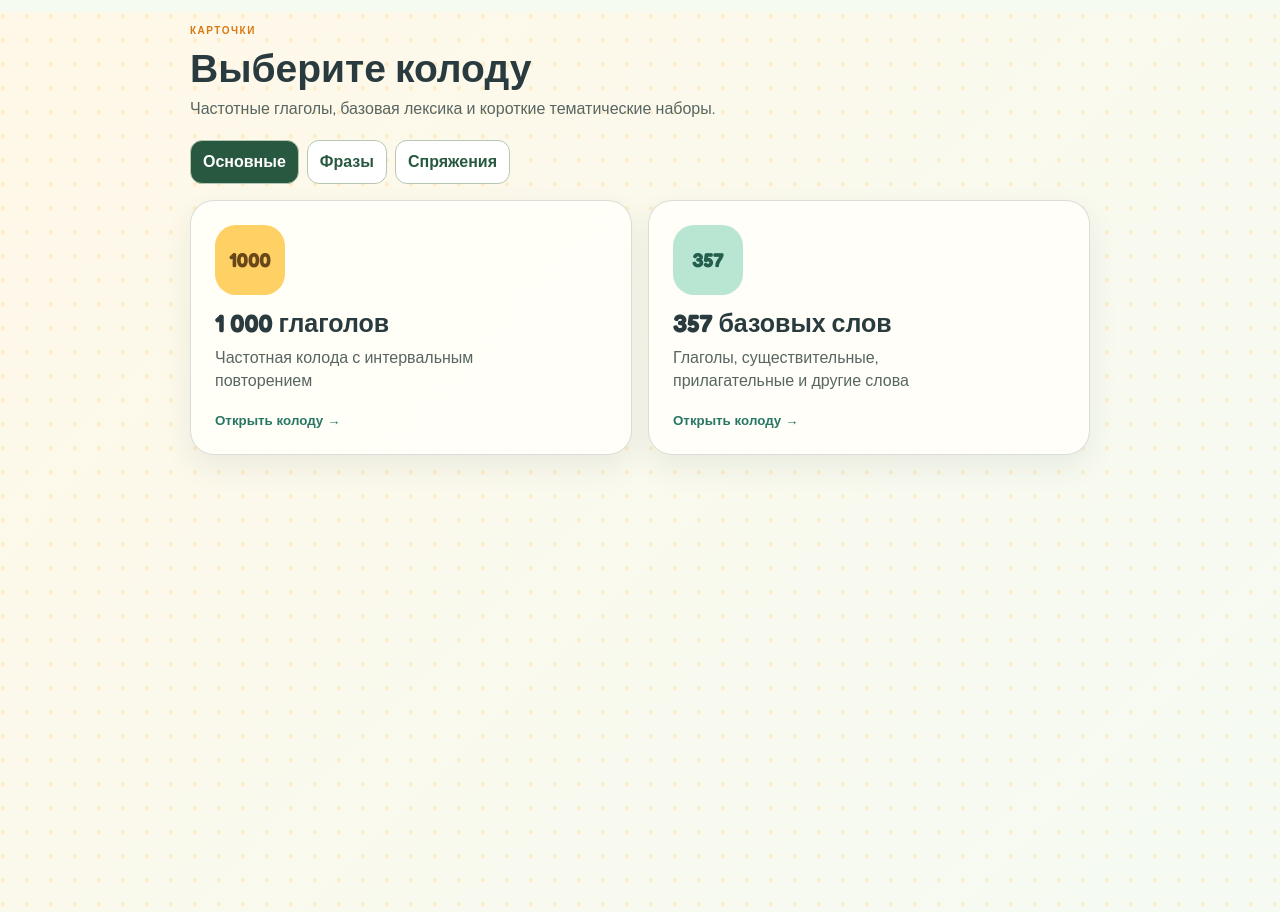
Scenario: Cards server cache and local session › deduplicates readers and keeps the active face until confirmation, then uses refreshed progress
The width and height of the screenshot is (1280, 912).
Click the button with aria-label "Открыть колоду «1 000 глаголов»": (250, 260) [190,200,632,455]
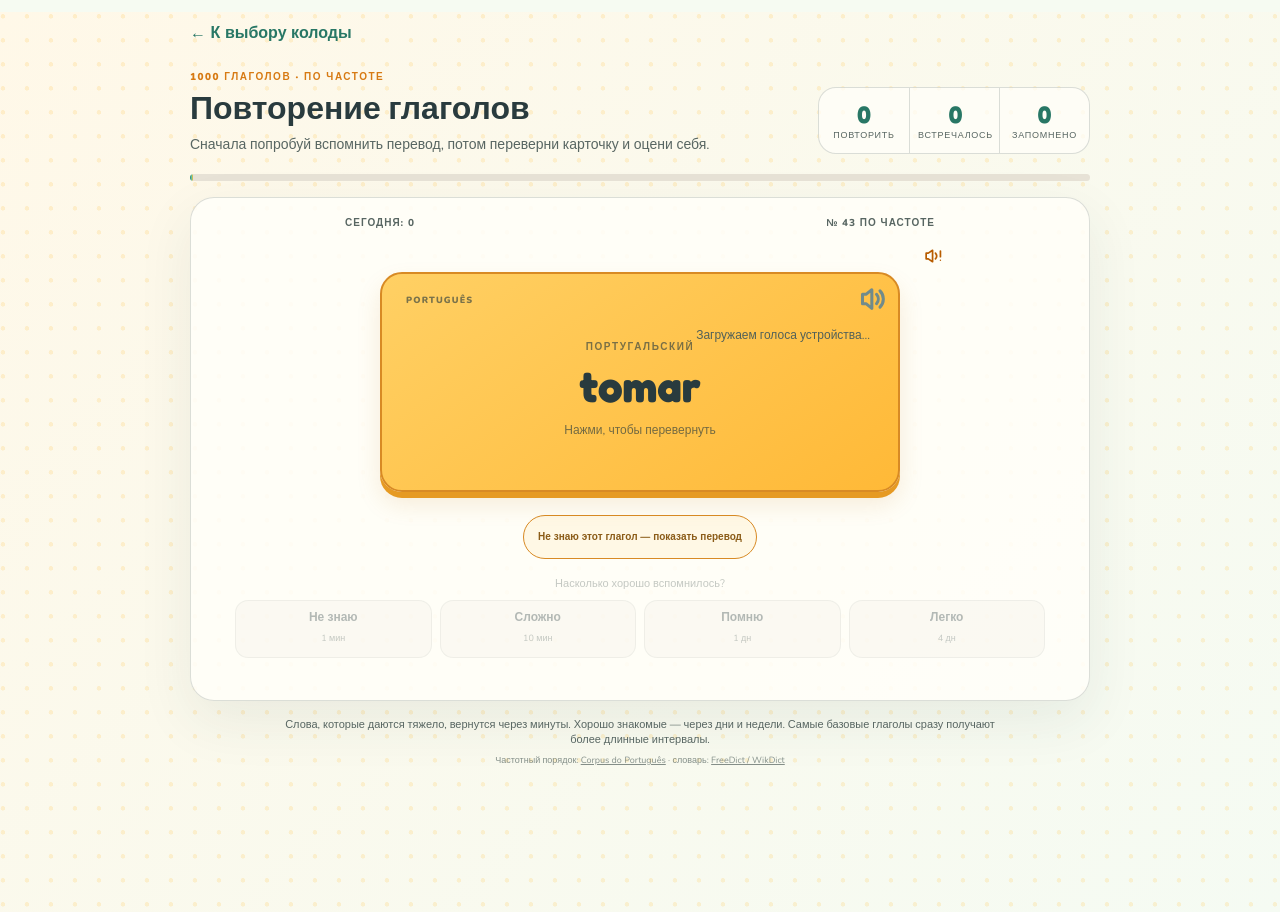
expect the button with aria-label "Показать перевод" is enabled: met
Click the button with aria-label "Показать перевод": (640, 382) [380,272,900,492]
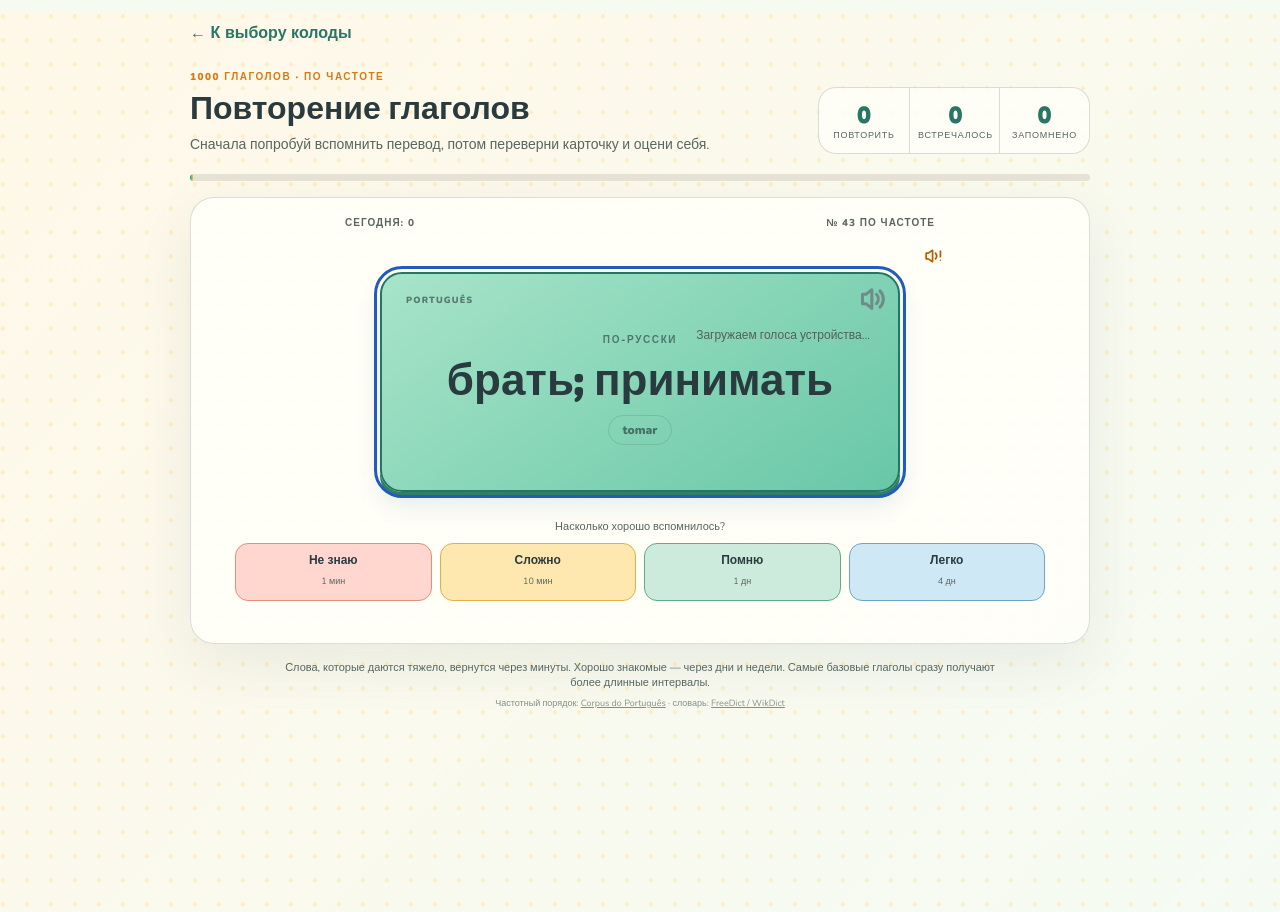
expect the text "Сегодня: 0" is shown: met, box [345,216,415,230]
Click the button "Помню 1 дн": (742, 572) [644,543,840,601]
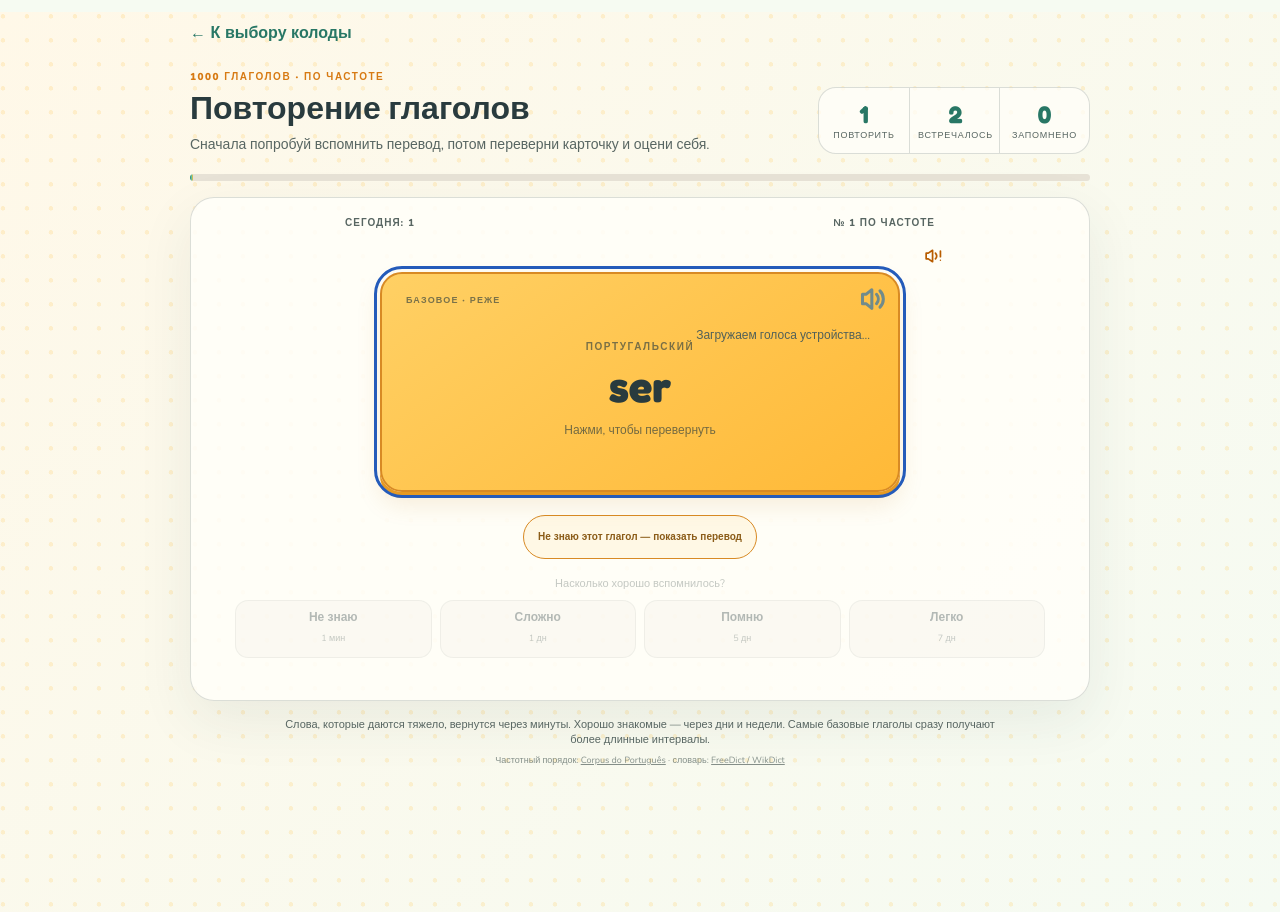
expect the text "Сегодня: 1" is shown: met, box [345,216,415,230]
